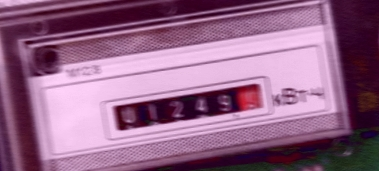0: (121, 105, 136, 127)
1: (146, 103, 158, 123)
2: (170, 100, 185, 121)
4: (195, 96, 208, 116)
7: (242, 86, 256, 106)
9: (217, 93, 233, 116)
screen: (94, 77, 273, 141)
